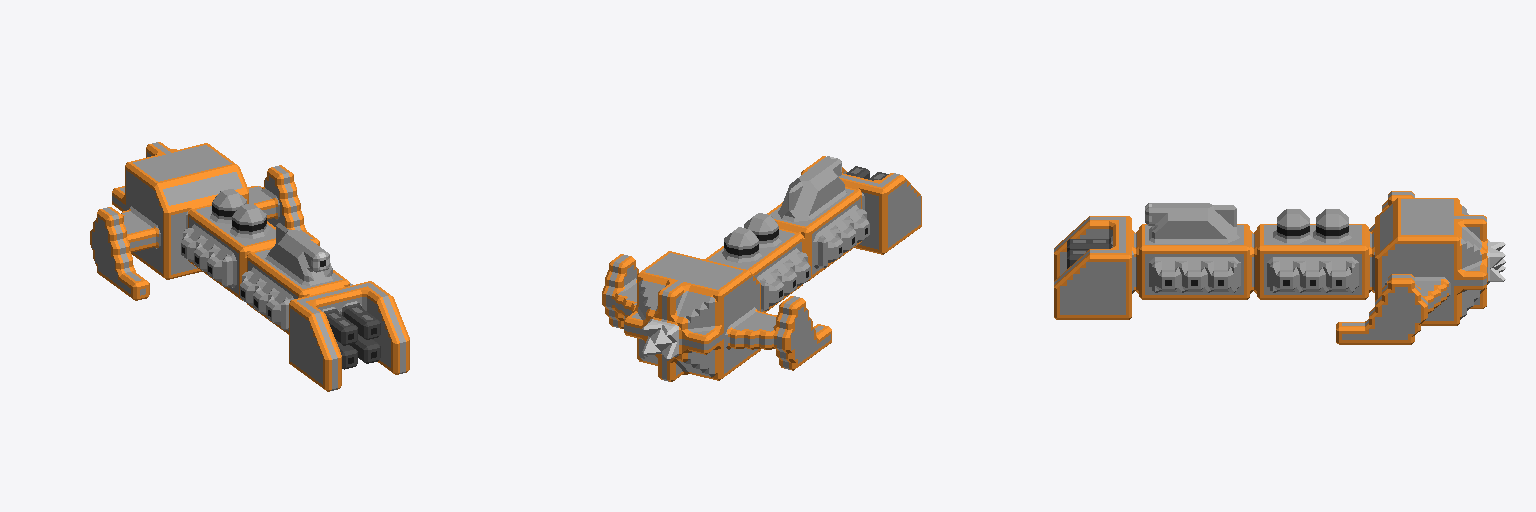
The picture shows the model from 3 angles: view 1: azimuth 30°, elevation 25°; view 2: azimuth 150°, elevation 25°; view 3: azimuth 270°, elevation 25°; orthographic projection.
Size of the model in its own units: 33 by 17 by 69.
1 materials, 1 textured.